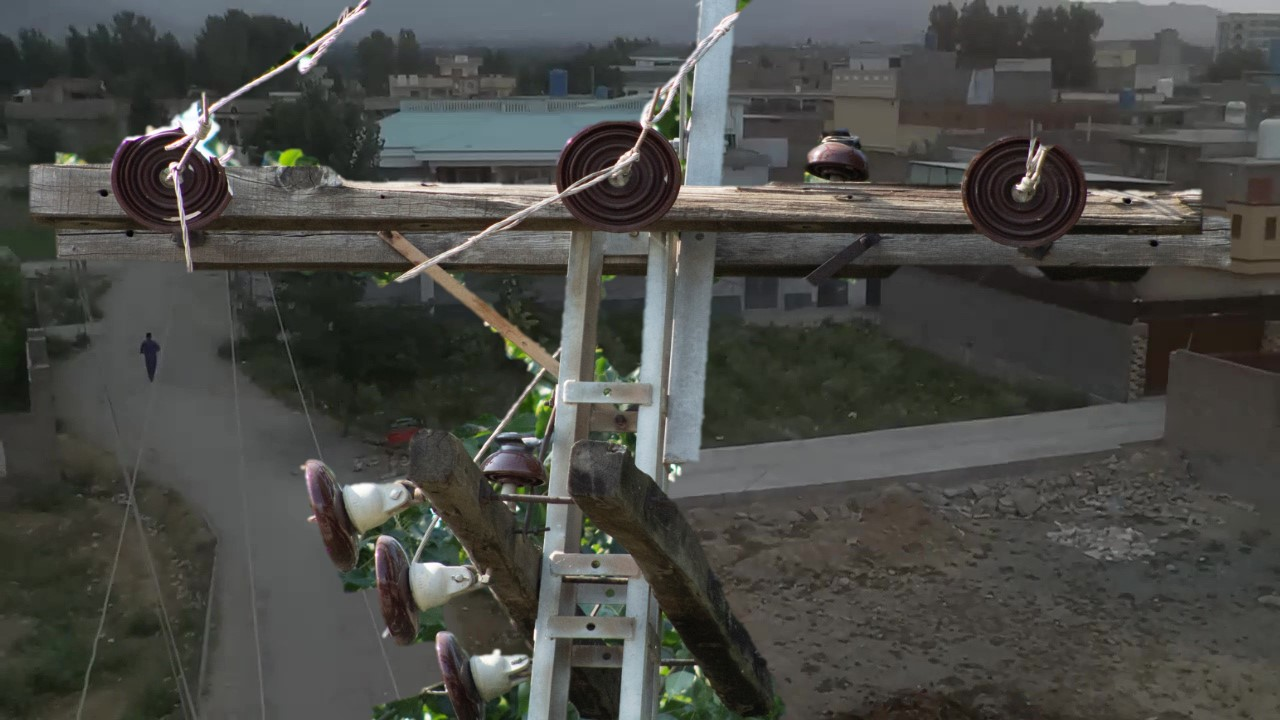defect_disc: (107, 116, 236, 241)
insulator_disc: (957, 126, 1098, 258), (563, 115, 684, 230), (423, 619, 527, 708), (295, 459, 374, 574), (367, 538, 433, 652)
insulator_pin: (479, 426, 549, 492), (806, 125, 874, 184)
